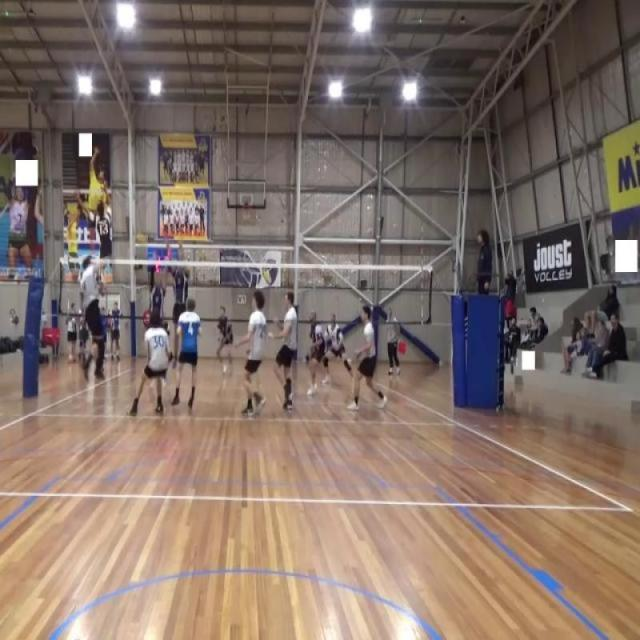volleyball: (134, 233, 148, 244)
